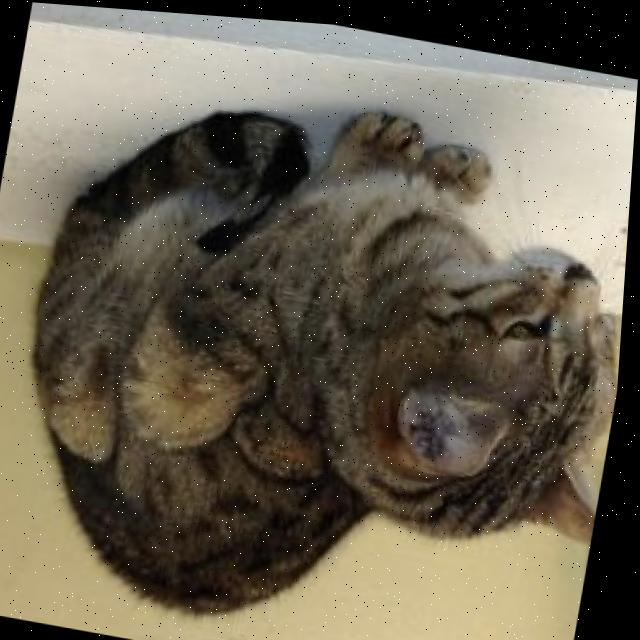Bengal: (0, 28, 639, 640)
